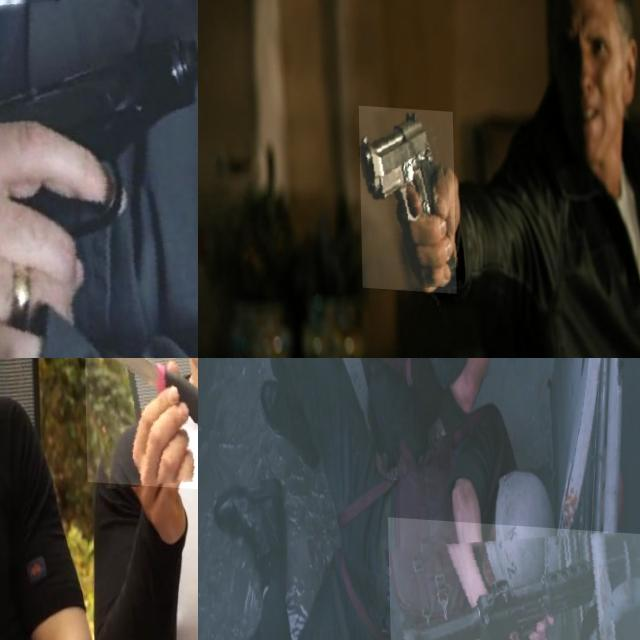-: (82, 358, 198, 486)
gun-knife-thesis - v11 Yolov5 augmented: (0, 0, 198, 358), (386, 512, 640, 640), (443, 358, 623, 475), (358, 103, 454, 290)
